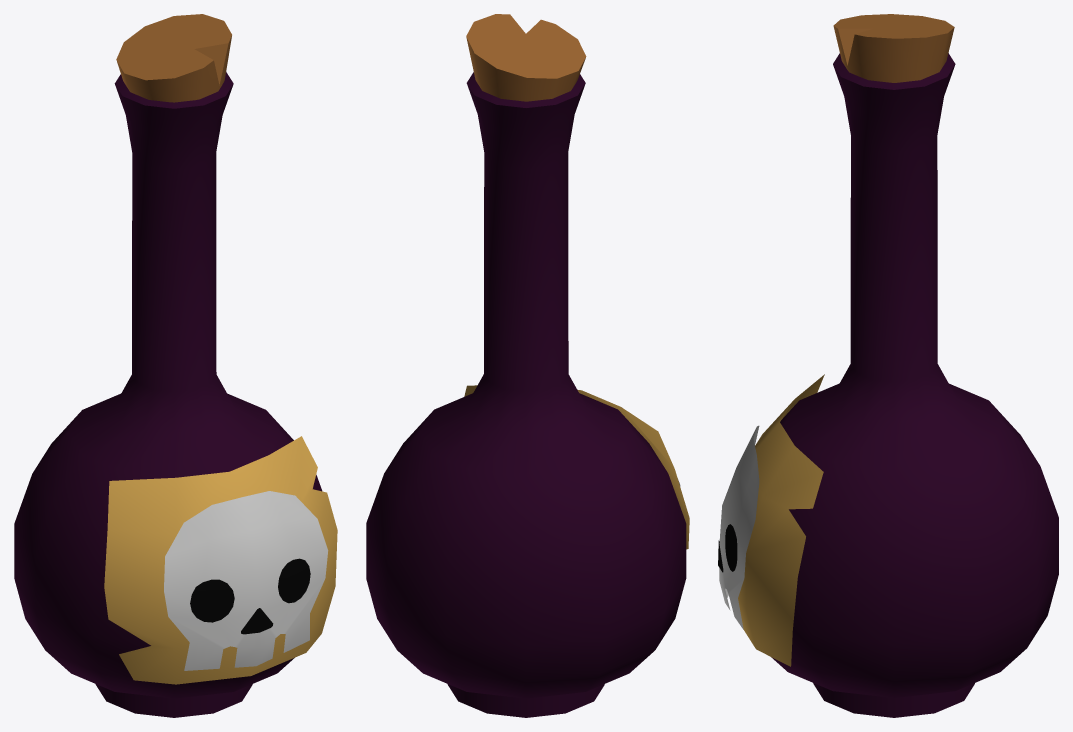
File: item_poison.fbx
The picture shows the model from 3 angles, left to right: view 1: azimuth 30°, elevation 25°; view 2: azimuth 150°, elevation 25°; view 3: azimuth 270°, elevation 25°; orthographic projection. The views are drawn at different scales.
Parts seen in each view (by area): view 1: item_poison; view 2: item_poison; view 3: item_poison.
Boxes of the visible parts, <box> form: item_poison: <box>14,14,337,717</box>; item_poison: <box>366,14,689,717</box>; item_poison: <box>718,14,1058,717</box>.
Bounding box in the file's own units: 1.06 × 2.39 × 1.1.
